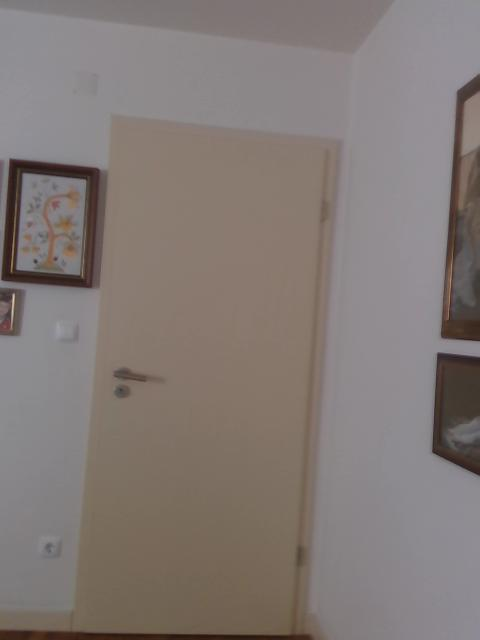door: (91, 125, 328, 637)
